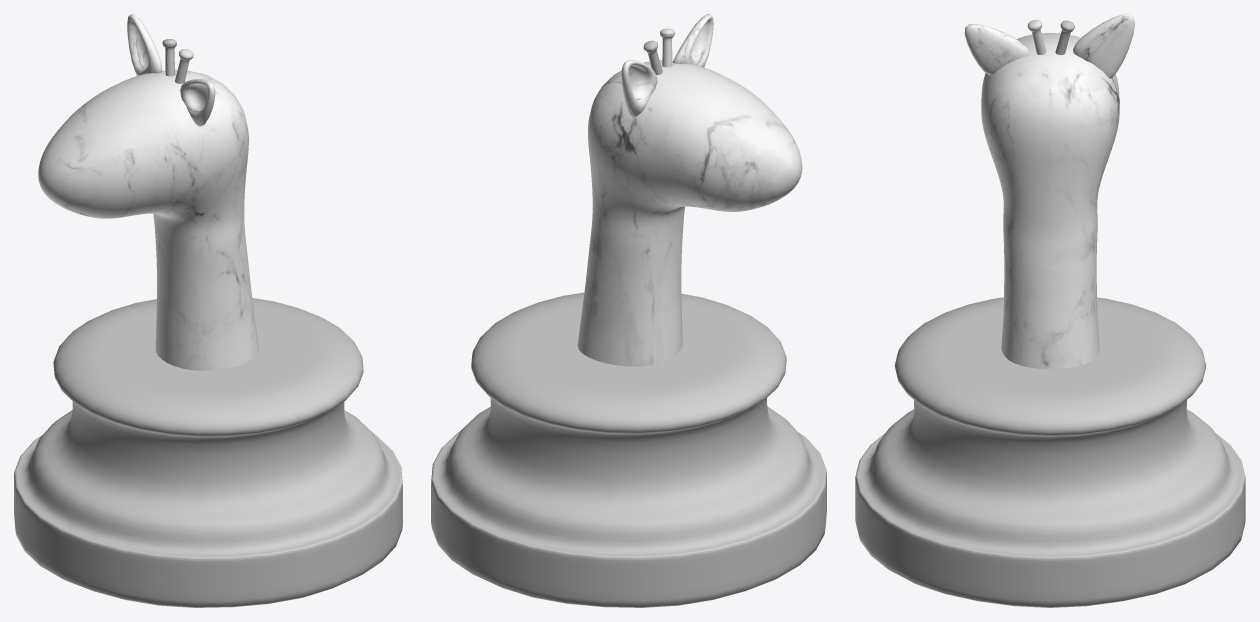
Rendered from bust.fbx.
3 views of the same model, side by side, from view 1: azimuth 30°, elevation 25°; view 2: azimuth 150°, elevation 25°; view 3: azimuth 270°, elevation 25° (orthographic).
Visible parts, largest first — view 1: Bust, Body, Ear R.001, Ear R; view 2: Bust, Body, Ear R.001, Ear R; view 3: Bust, Body, Ear R.001, Ear R.
Part boxes in pixels (<box>): Bust: <box>14,298,402,607</box>; Body: <box>38,69,258,370</box>; Ear R.001: <box>127,14,162,75</box>; Ear R: <box>180,79,215,126</box>; Bust: <box>431,292,826,607</box>; Body: <box>577,60,802,366</box>; Ear R.001: <box>621,60,657,117</box>; Ear R: <box>673,14,713,67</box>; Bust: <box>855,297,1245,607</box>; Body: <box>981,33,1119,369</box>; Ear R.001: <box>1073,14,1134,78</box>; Ear R: <box>964,23,1029,75</box>.
Size of the model in its own units: 180 by 255 by 180.
